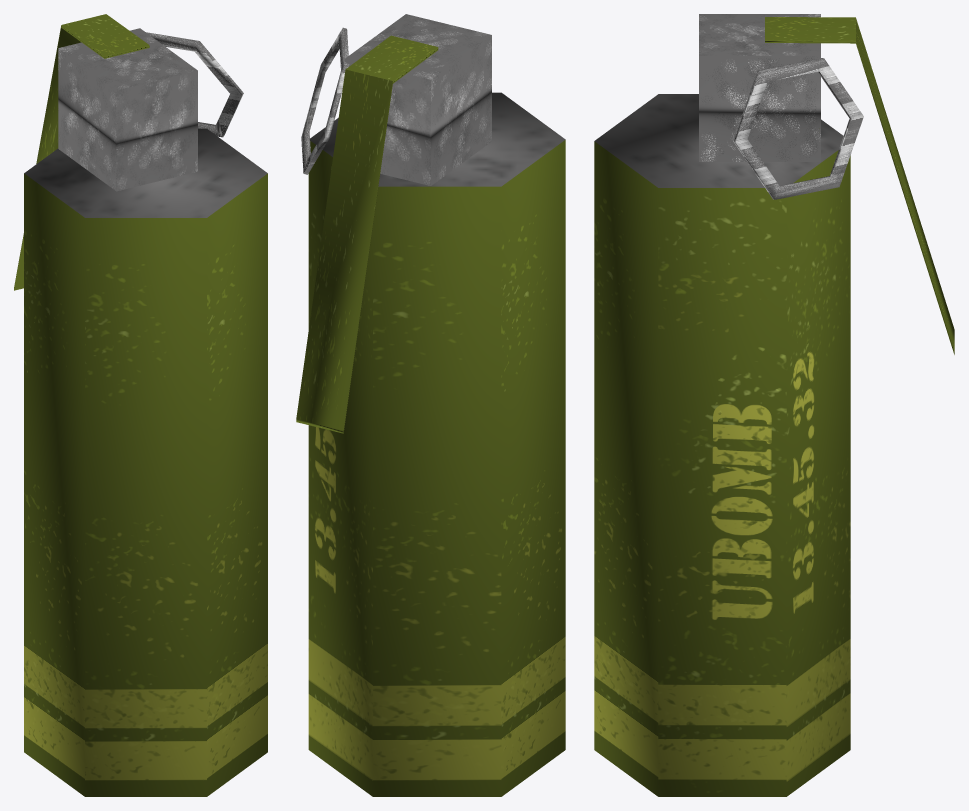
Rendered from granada.fbx.
The picture shows the model from 3 angles, left to right: view 1: azimuth 30°, elevation 25°; view 2: azimuth 150°, elevation 25°; view 3: azimuth 270°, elevation 25°; orthographic projection. The views are drawn at different scales.
Parts seen in each view (by area): view 1: Cylinder, Cube_000, Cube_001, Cube_002; view 2: Cylinder, Cube_001, Cube_000, Cube_002; view 3: Cylinder, Cube_000, Cube_001, Cube_002.
Boxes of the visible parts, x1,y1,x2,y2 form: Cylinder: [24, 128, 267, 796]; Cube_000: [58, 28, 197, 191]; Cube_001: [14, 14, 243, 290]; Cube_002: [146, 32, 243, 137]; Cylinder: [308, 92, 565, 796]; Cube_001: [296, 29, 438, 433]; Cube_000: [344, 14, 491, 185]; Cube_002: [301, 27, 349, 173]; Cylinder: [594, 94, 850, 796]; Cube_000: [699, 14, 820, 161]; Cube_001: [734, 17, 954, 354]; Cube_002: [733, 58, 863, 199].
Size of the model in its own units: 1.85 by 6.21 by 2.81.
Materials: 4 (4 with a texture image).
